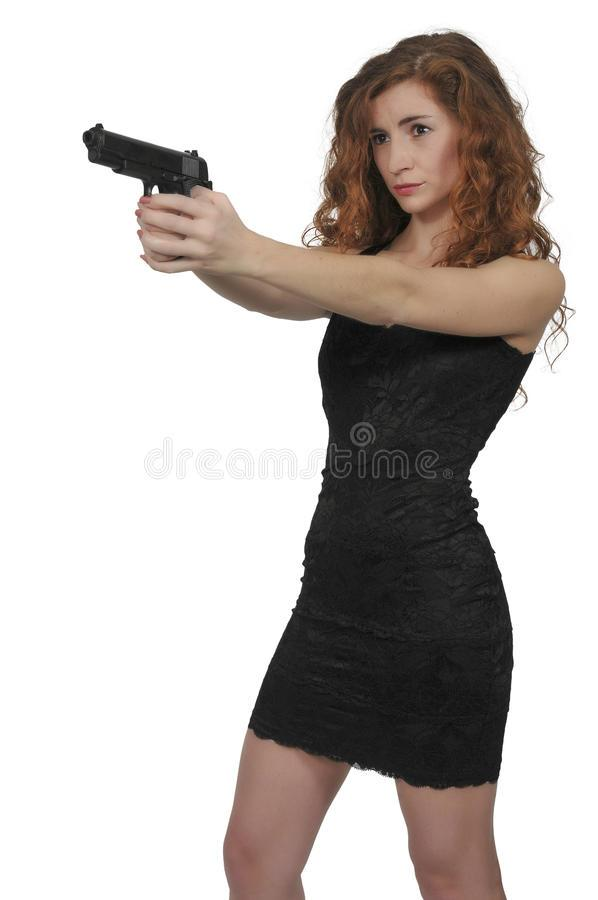criminal: (77, 26, 578, 900)
weapon: (76, 118, 218, 217)
